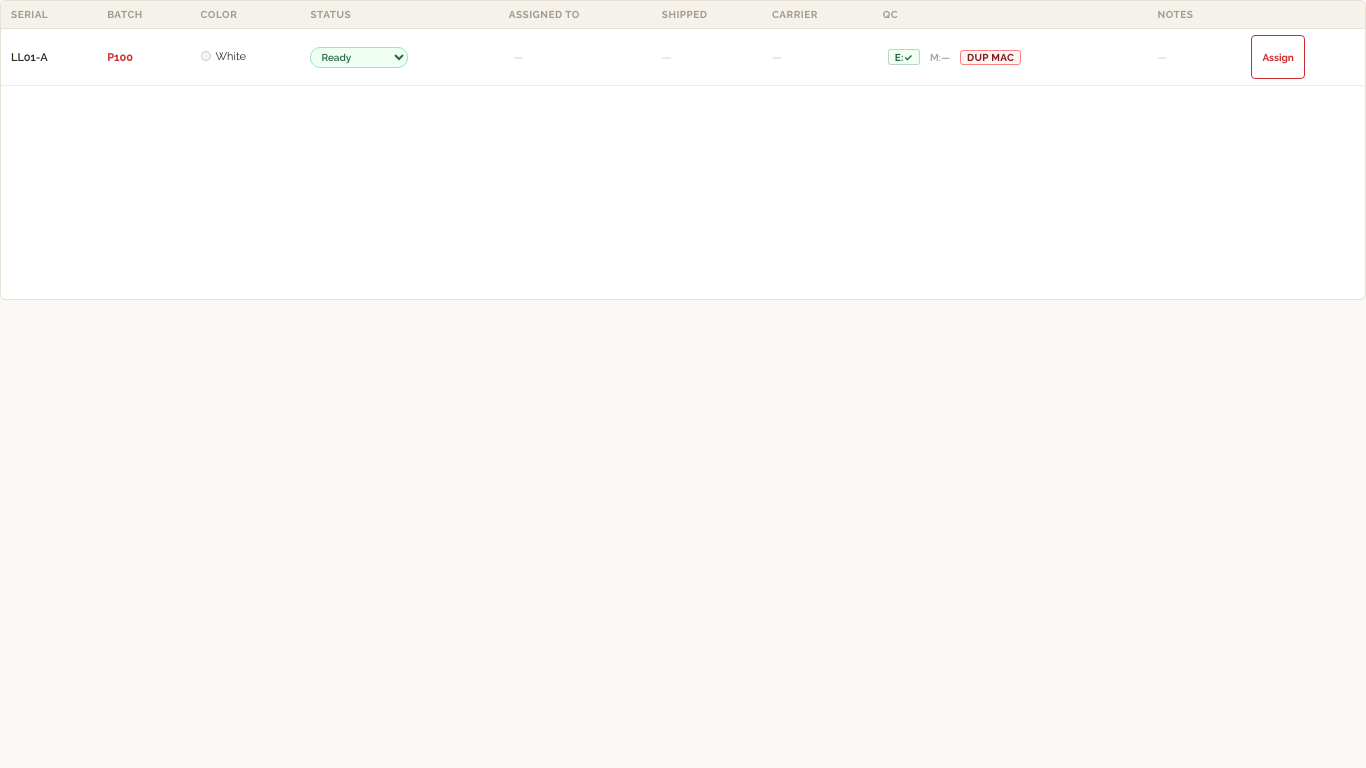
Test case: UnitTable — duplicate MAC › QC modal shows the MAC and names the other unit holding it
Click the button titled "Technician:".
click(954, 57)  # box [883,35,1026,79]
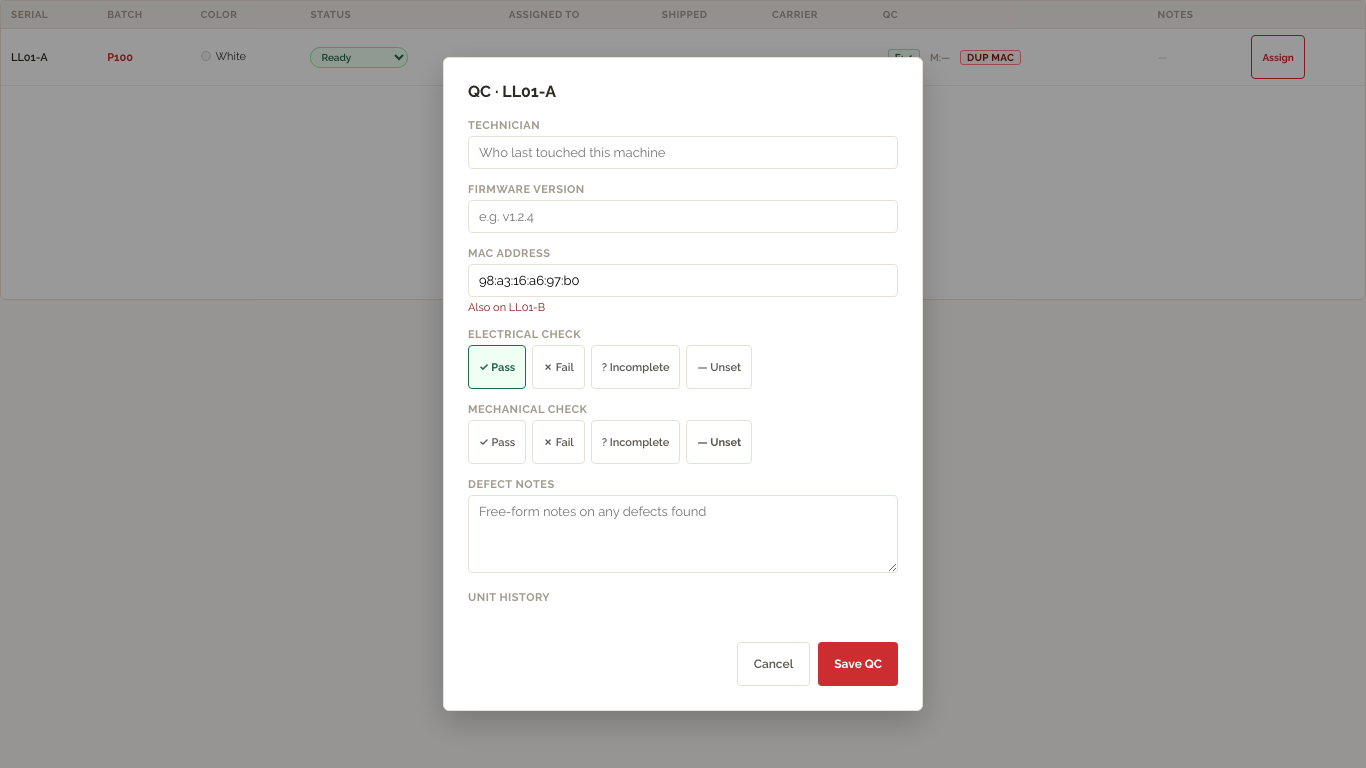
Result: the field labelled "MAC address" holds "98:a3:16:a6:97:b0" at [468,264,898,297]
Result: the text "Also on LL01-B" is shown at [468,301,545,314]
